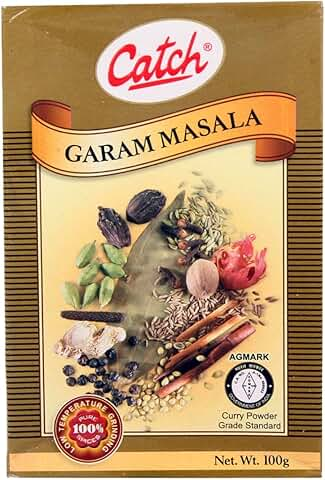Garamasala: (1, 4, 325, 480)
